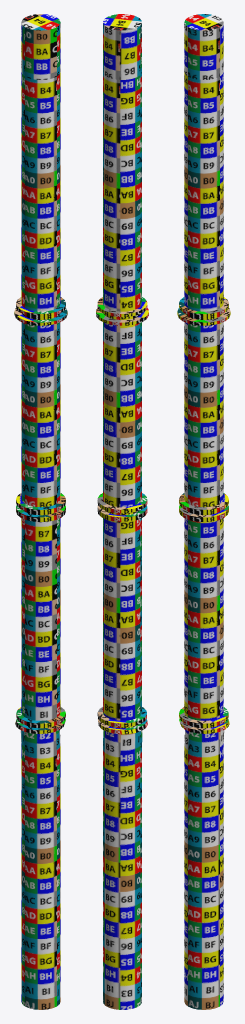
Rendered from TallLightPost.obj.
3 renders of one model, left to right at view 1: azimuth 90°, elevation 25°; view 2: azimuth 210°, elevation 25°; view 3: azimuth 270°, elevation 25°, orthographic.
Parts seen in each view (by area): view 1: default; view 2: default; view 3: default.
Part boxes in pixels (x1,y1,x2,y2): default: (14,14,67,1009); default: (96,14,148,1009); default: (177,14,230,1009).
Bounding box in the file's own units: 2.7 × 55.03 × 2.7.
